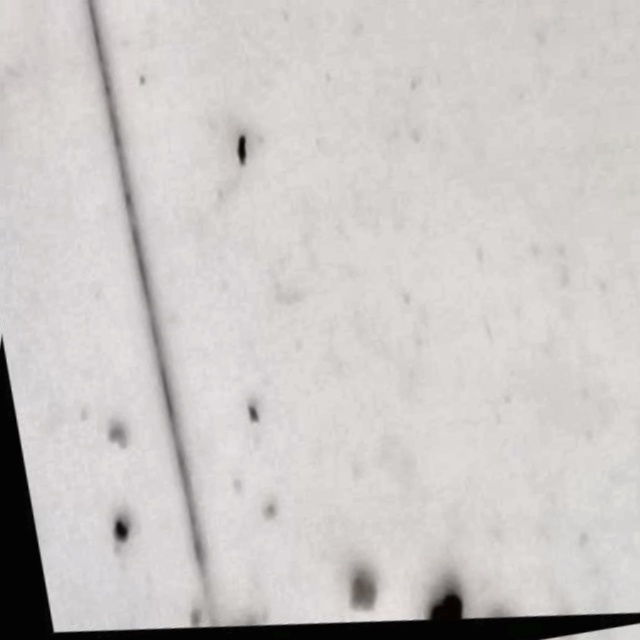varroa: (401, 592, 457, 627)
